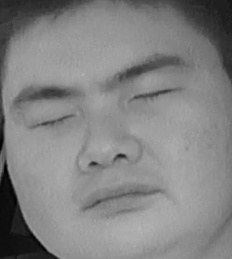blink: (128, 81, 176, 111), (30, 108, 80, 136)
mouth: (73, 176, 162, 221)
